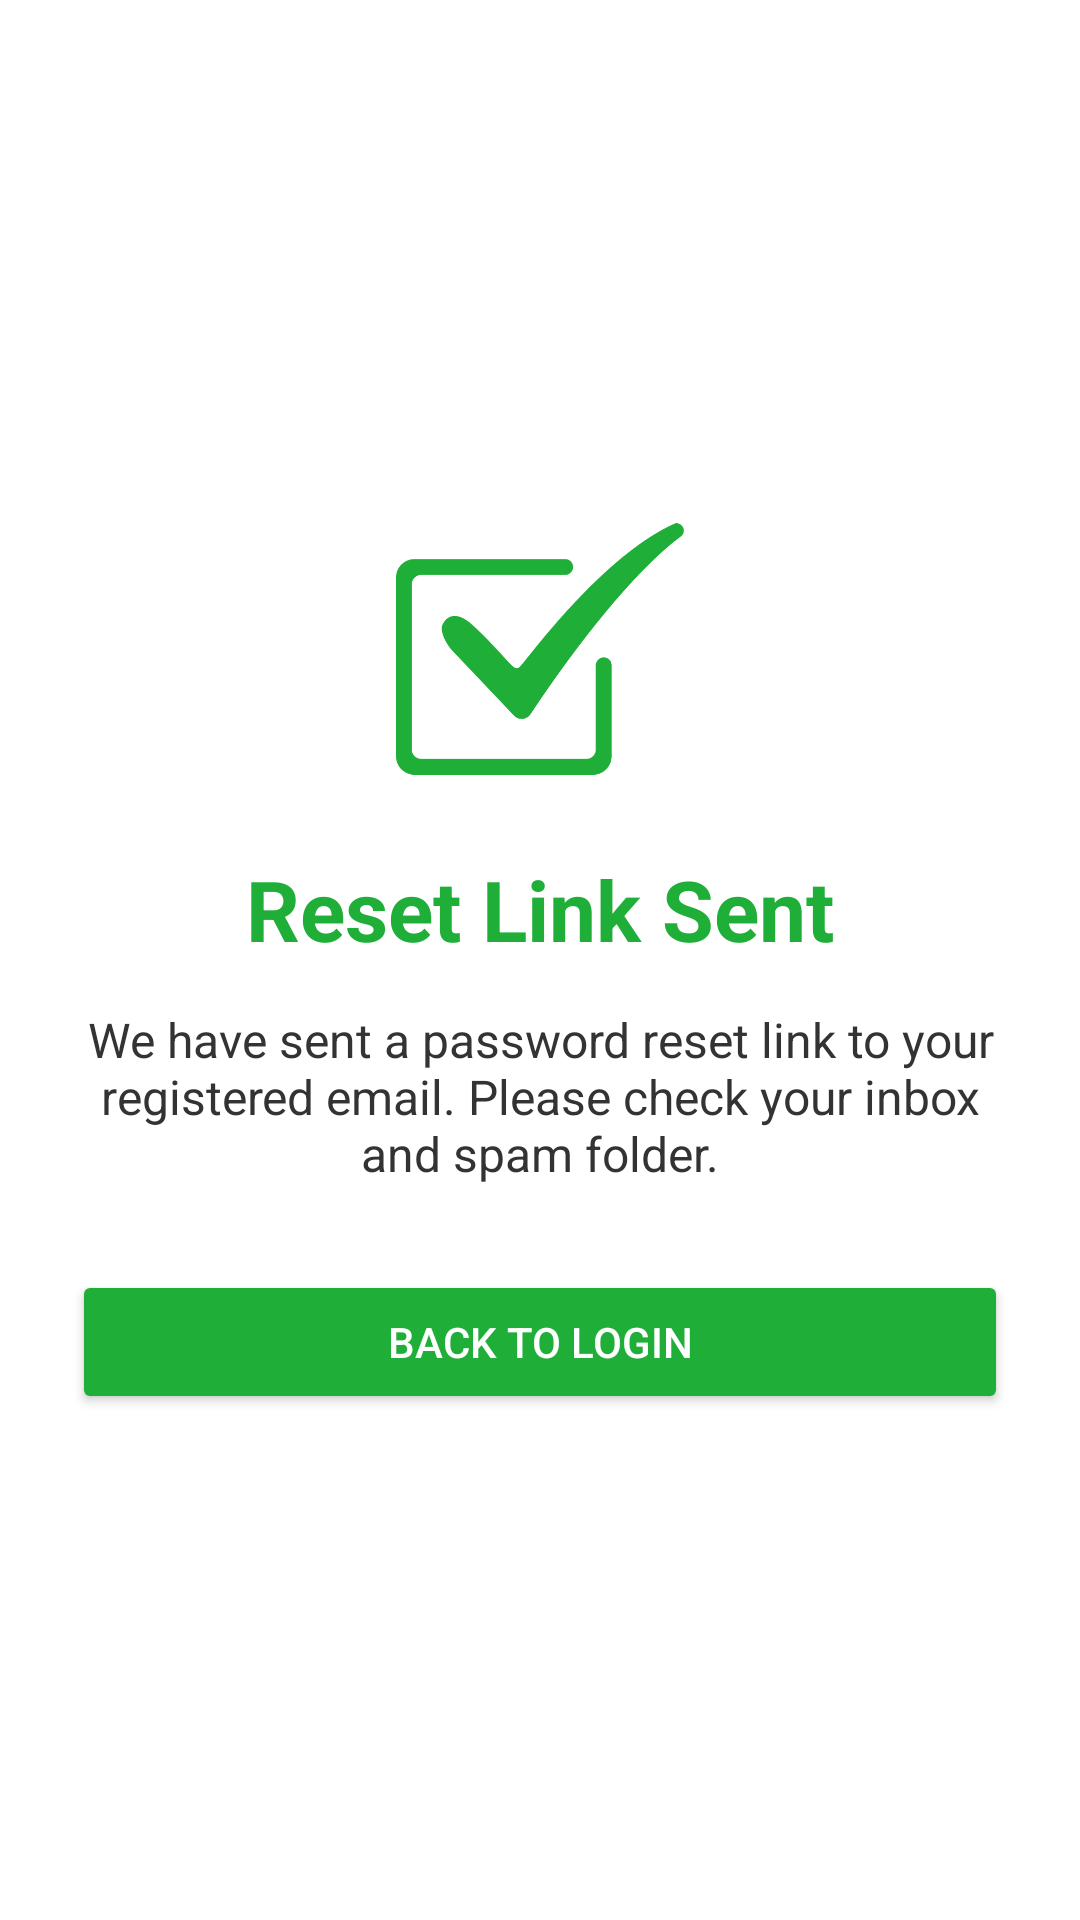

Screen size 1080x1920. Icon name, then its box in pixels as bbox=(x1, y1, x2, y2):
Success: bbox=(396, 523, 684, 775)
